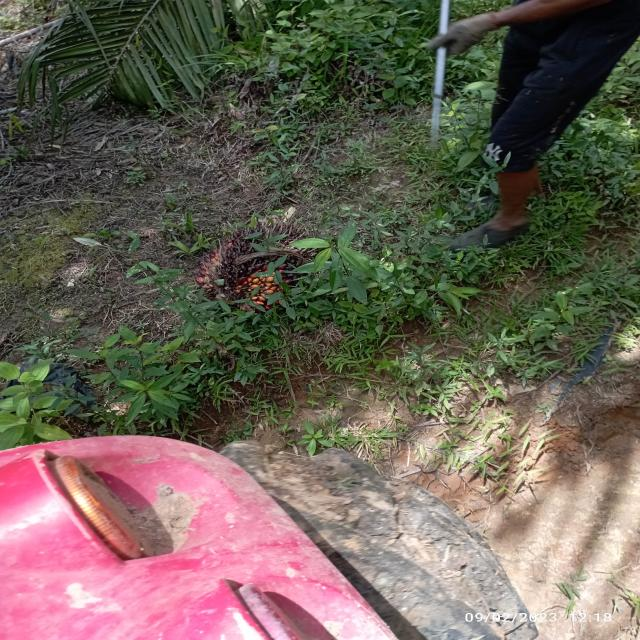fraksi 00: (192, 213, 344, 304)
